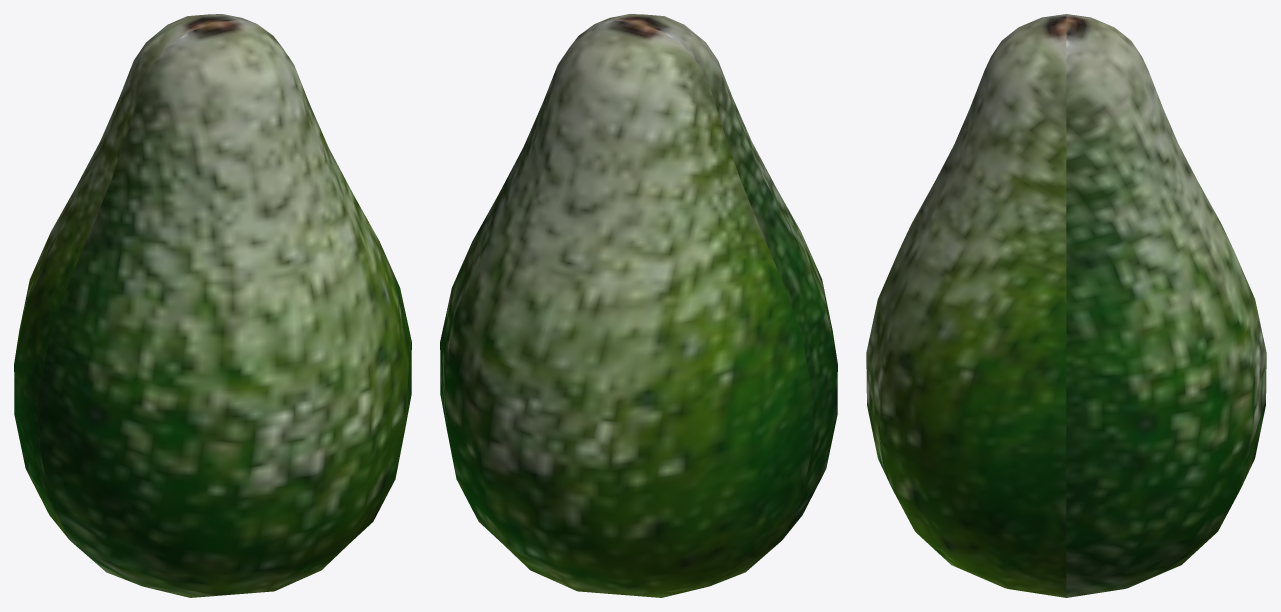
The model's file is Avocado.fbx.
The picture shows the model from 3 angles, left to right: view 1: azimuth 30°, elevation 25°; view 2: azimuth 150°, elevation 25°; view 3: azimuth 270°, elevation 25°; orthographic projection.
Visible parts, largest first — view 1: Avocado; view 2: Avocado; view 3: Avocado.
Boxes of the visible parts, x1,y1,x2,y2 form: Avocado: (14,14,411,597); Avocado: (440,14,837,597); Avocado: (866,14,1266,597).
Bounding box in the file's own units: 12.36 × 18.83 × 12.36.
